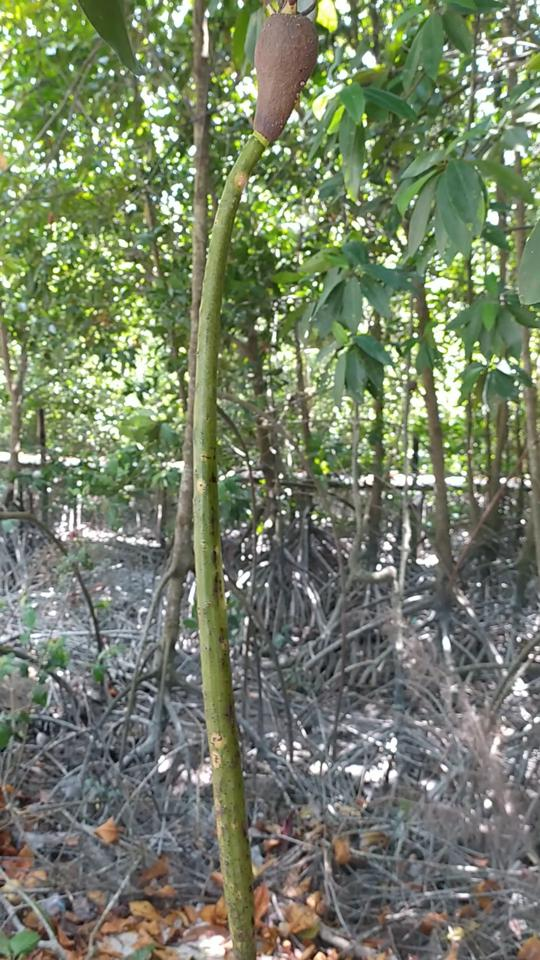setengah matang: (182, 6, 327, 959)
